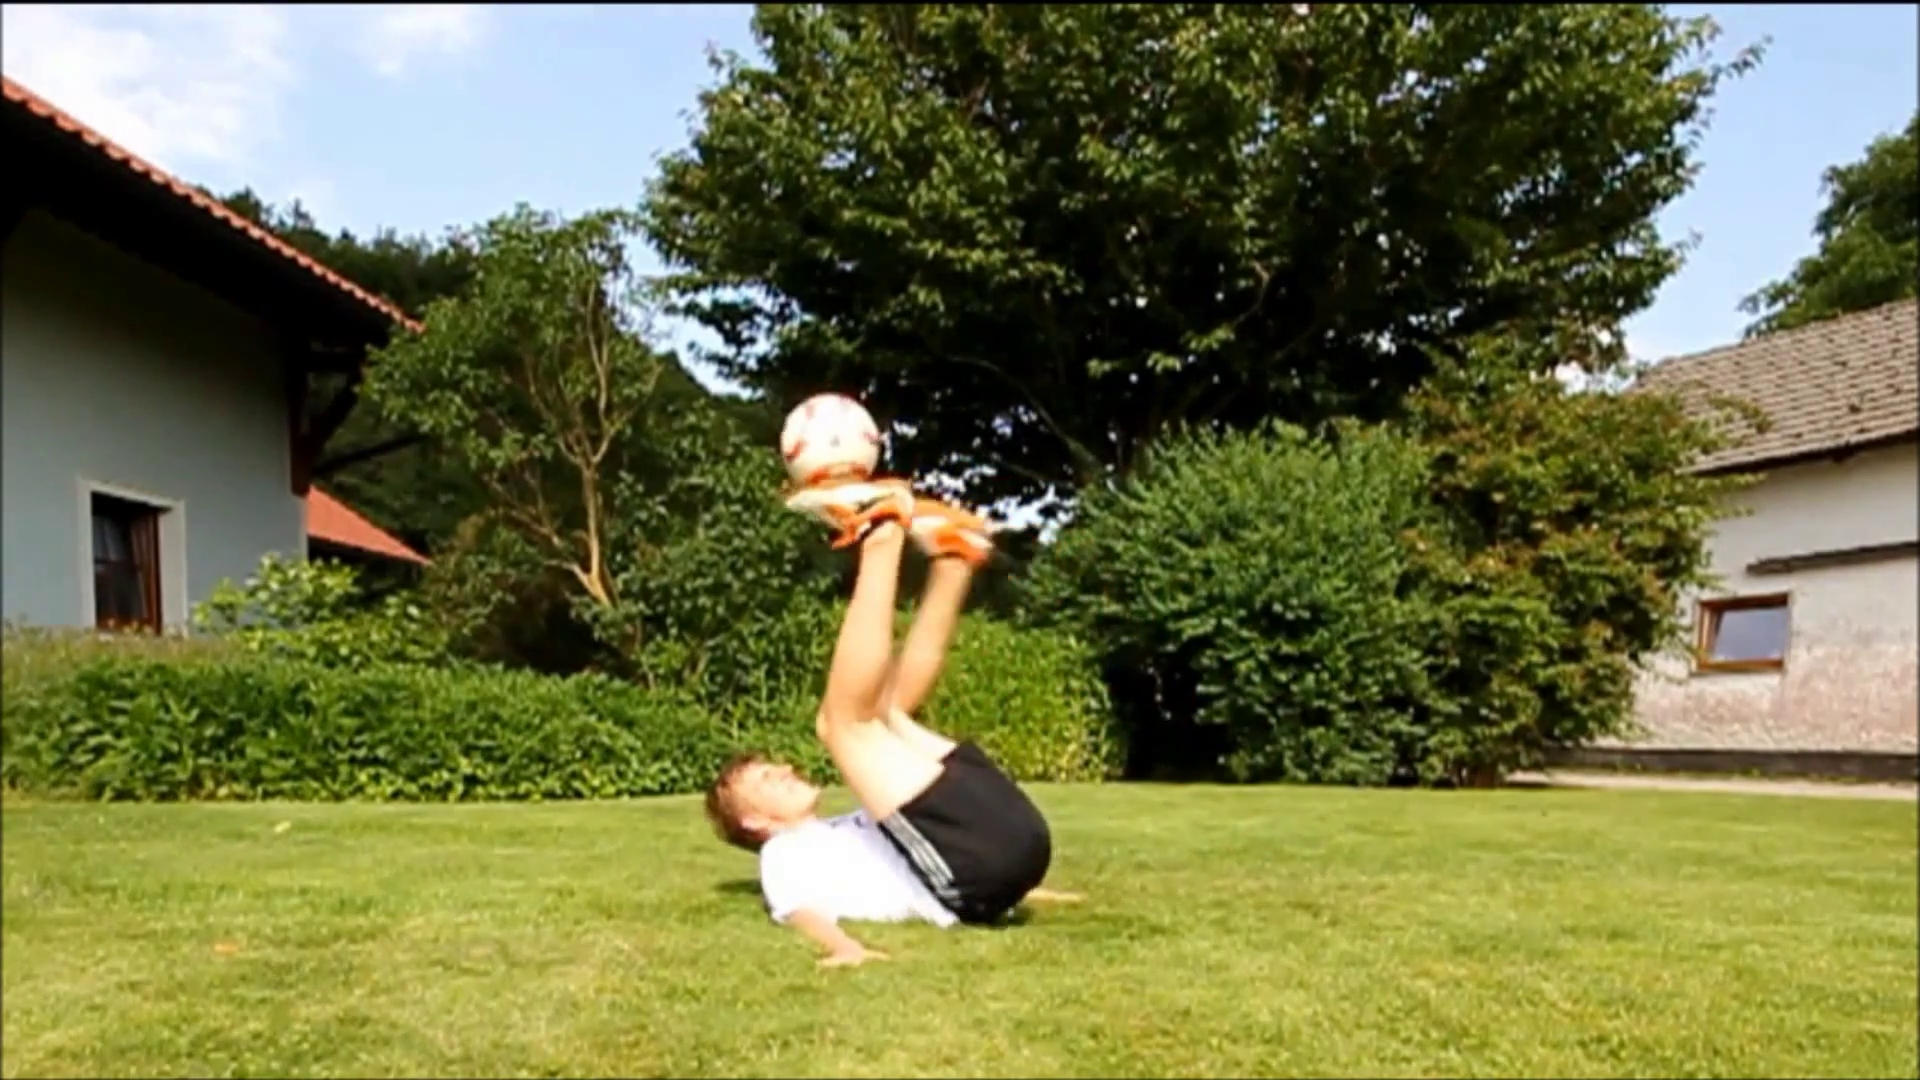person: (707, 477, 1089, 967)
